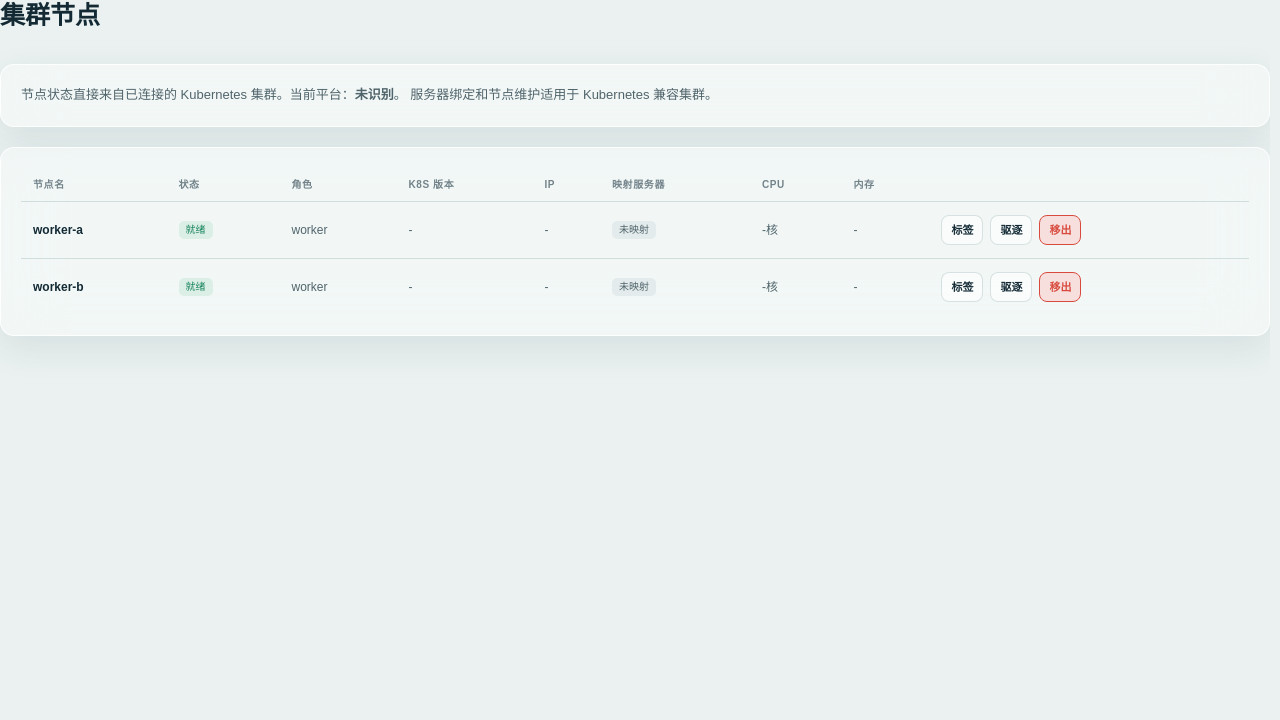
Test: Cluster view › keeps only the latest node label response when selection changes quickly
Click the button with test id "manage-labels-worker-a" at coordinates (962, 230), box [942, 215, 984, 245]
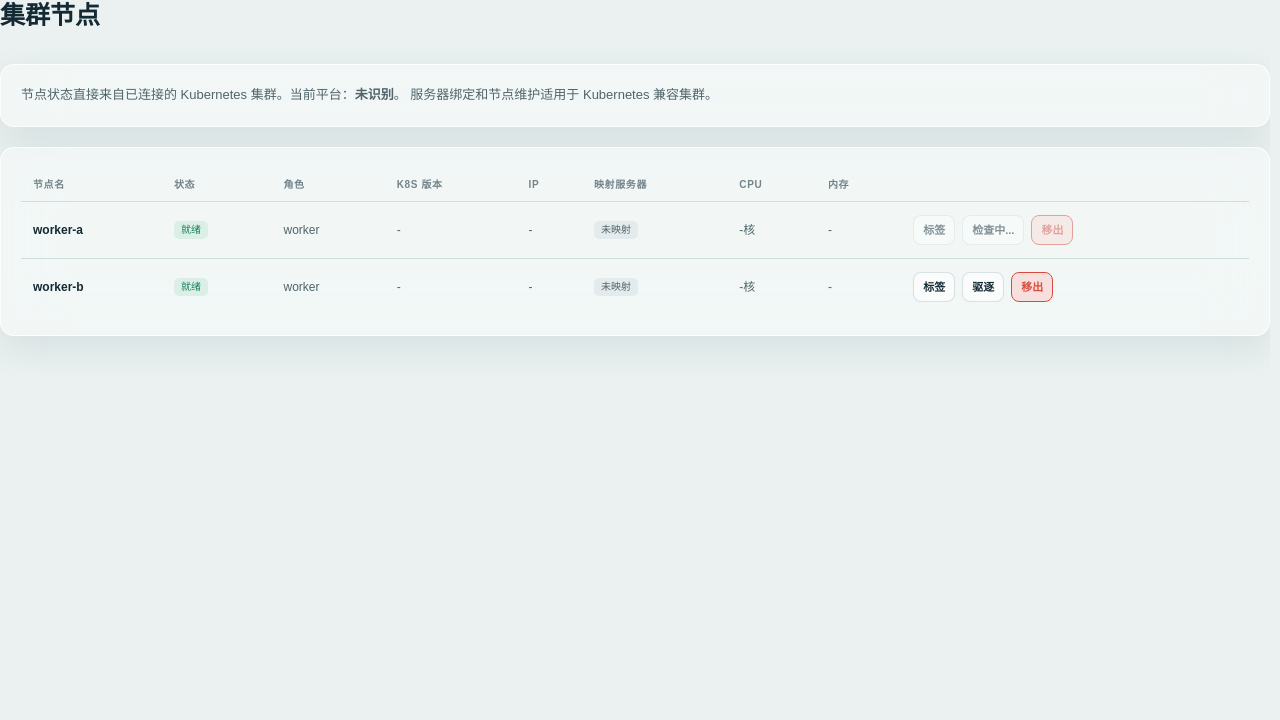
Click the button with test id "manage-labels-worker-b" at coordinates (934, 287), box [913, 272, 955, 302]
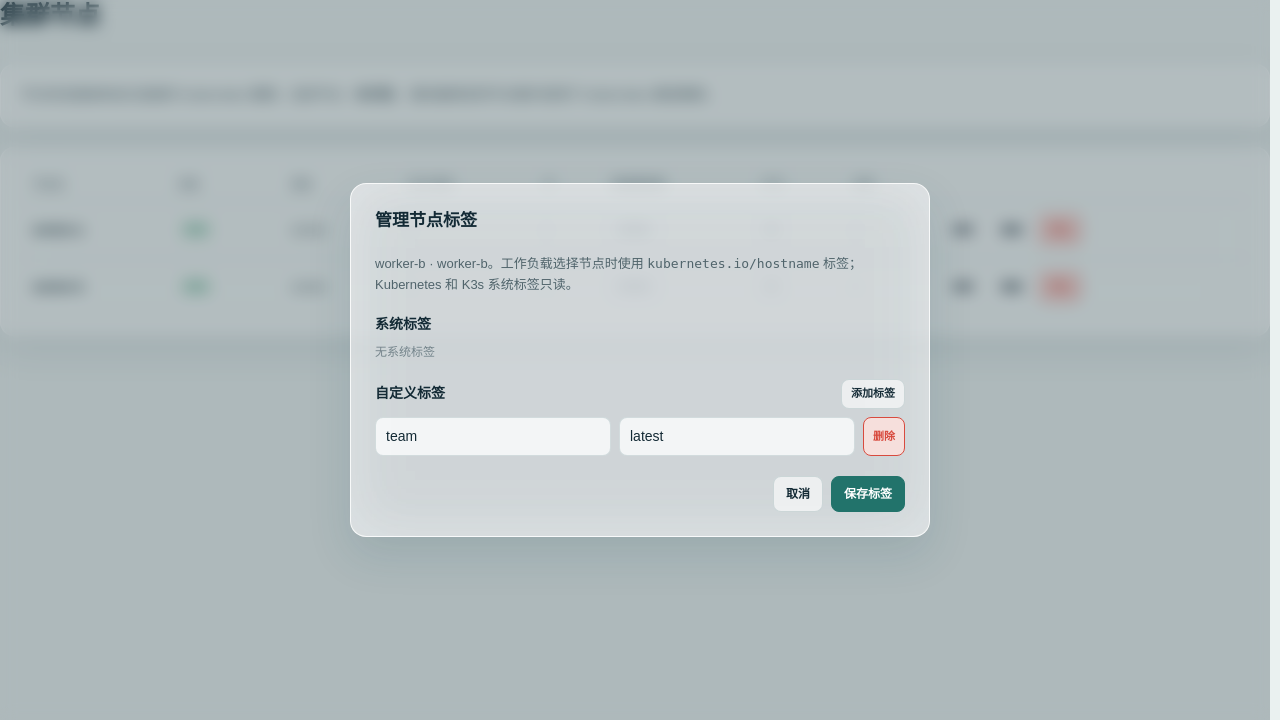
Expected: the text "worker-b" is shown, [21, 258, 166, 315]
Result: the 1st field holds "team" at [375, 416, 611, 456]
Result: the 2nd field holds "latest" at [619, 416, 855, 456]
